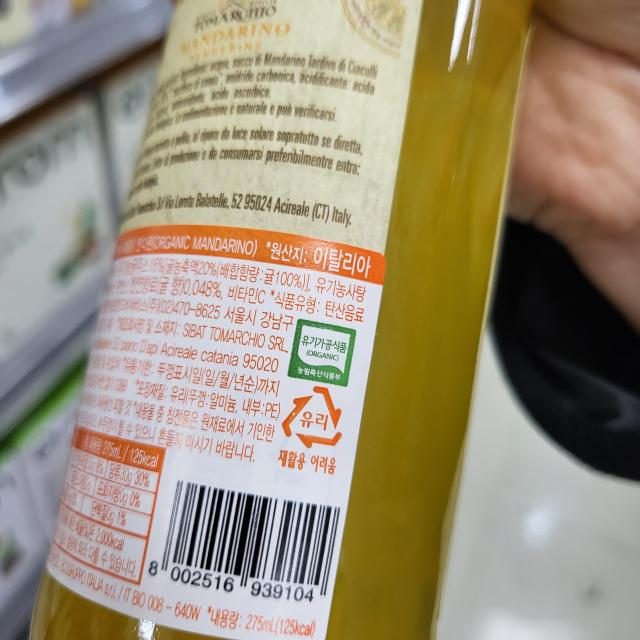Glass: (278, 382, 347, 451)
